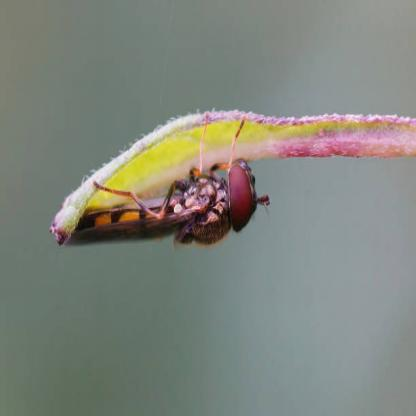sawfly: (52, 106, 270, 250)
